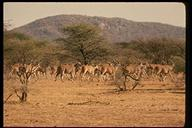antelope: (97, 58, 122, 86), (54, 61, 82, 84), (153, 62, 177, 80), (80, 62, 99, 81)
mountain: (6, 13, 187, 41)
sky: (5, 3, 185, 13)
tree: (57, 22, 110, 63), (4, 31, 44, 62), (136, 34, 182, 60)
